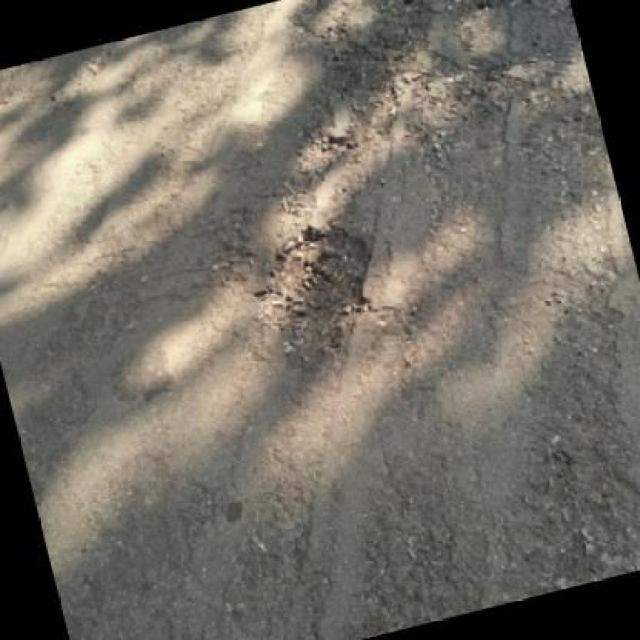pothole1: (239, 216, 399, 366)
